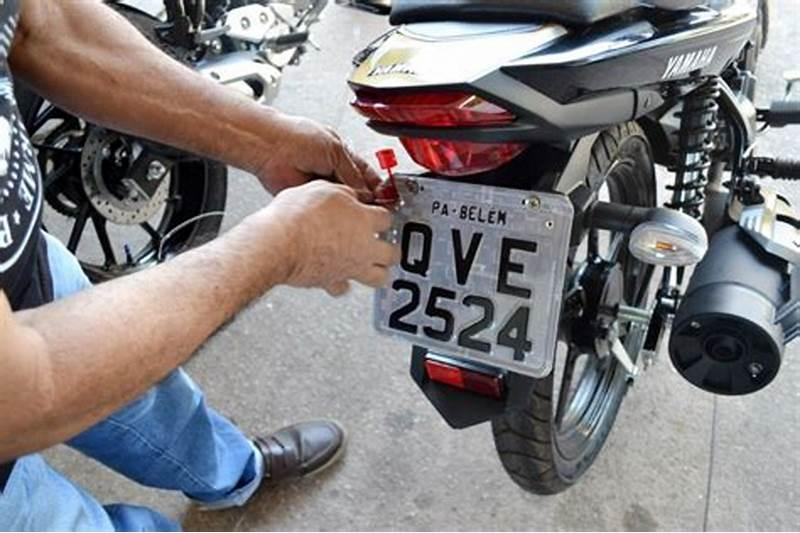placa de veiculo: (350, 147, 598, 391)
